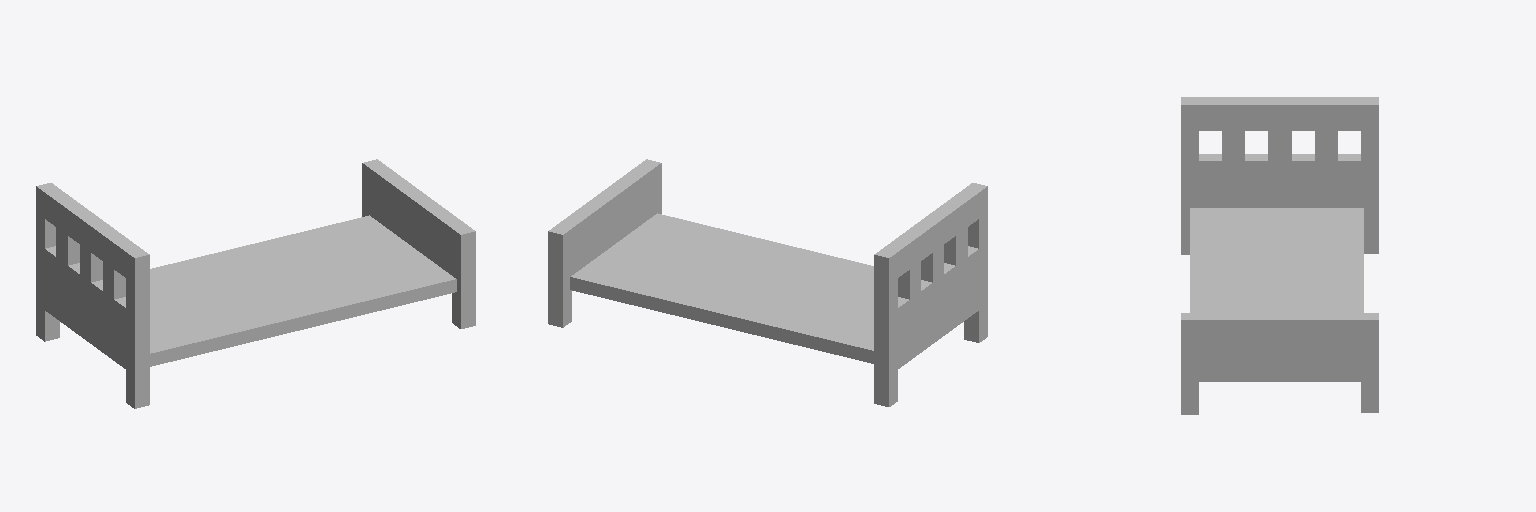
Rendered from Single Bed.obj.
The picture shows the model from 3 angles: view 1: azimuth 30°, elevation 25°; view 2: azimuth 150°, elevation 25°; view 3: azimuth 270°, elevation 25°; orthographic projection.
Parts seen in each view (by area): view 1: Bed-Bottom.001_Cube.003, Back_Board_Cube.006, Front_Board_Cube.008; view 2: Bed-Bottom.001_Cube.003, Back_Board_Cube.006, Front_Board_Cube.008; view 3: Back_Board_Cube.006, Bed-Bottom.001_Cube.003, Front_Board_Cube.008.
Part boxes in pixels (x1,y1,x2,y2): Bed-Bottom.001_Cube.003: (150, 215, 456, 366); Back_Board_Cube.006: (36, 183, 149, 408); Front_Board_Cube.008: (362, 159, 475, 328); Bed-Bottom.001_Cube.003: (570, 213, 873, 363); Back_Board_Cube.006: (874, 183, 987, 406); Front_Board_Cube.008: (548, 159, 661, 327); Back_Board_Cube.006: (1181, 97, 1378, 254); Bed-Bottom.001_Cube.003: (1190, 208, 1363, 312); Front_Board_Cube.008: (1181, 313, 1378, 414).
Bounding box in the file's own units: 13.6 × 5.74 × 6.8.